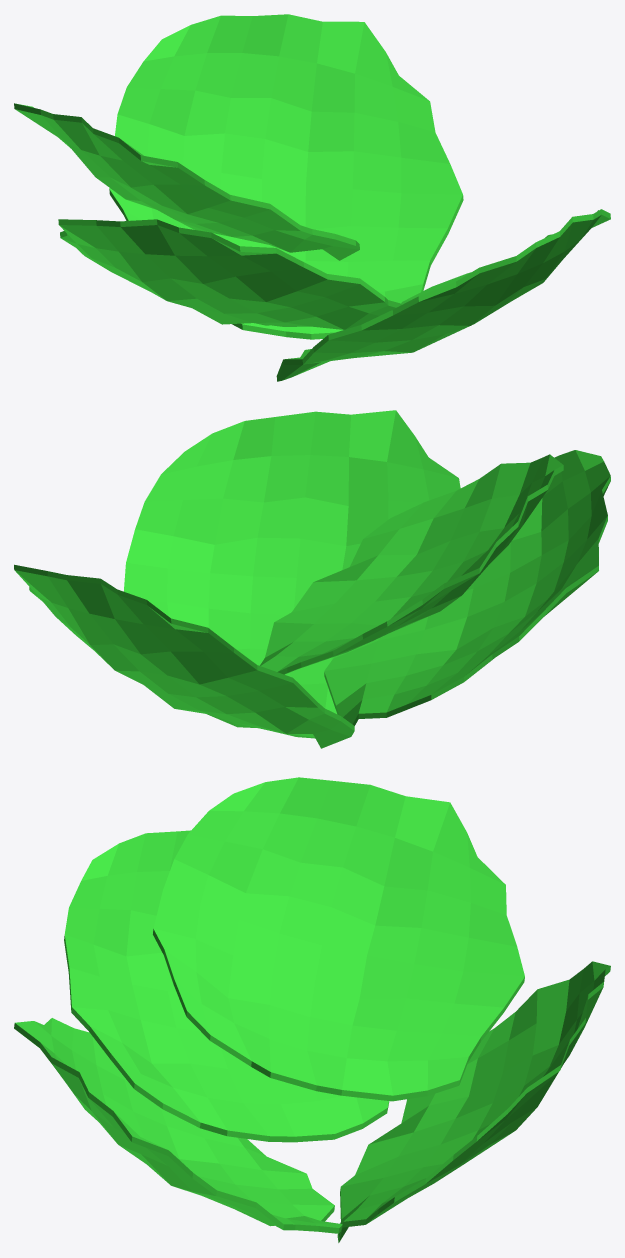
Rendered from LettuceModel.fbx.
The picture shows the model from 3 angles, top to bottom: view 1: azimuth 30°, elevation 25°; view 2: azimuth 150°, elevation 25°; view 3: azimuth 270°, elevation 25°; orthographic projection. The views are drawn at different scales.
Parts seen in each view (by area): view 1: Lettuce1; view 2: Lettuce1; view 3: Lettuce1.
Part boxes in pixels (x1,y1,x2,y2): Lettuce1: [14, 14, 610, 381]; Lettuce1: [14, 410, 610, 748]; Lettuce1: [14, 777, 610, 1242].
Size of the model in its own units: 44.03 by 44.86 by 25.19.
